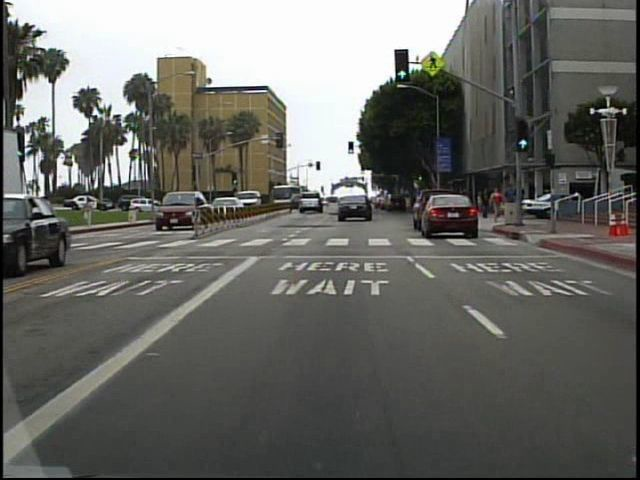person: (489, 186, 505, 224), (504, 181, 519, 219), (86, 191, 99, 228)
